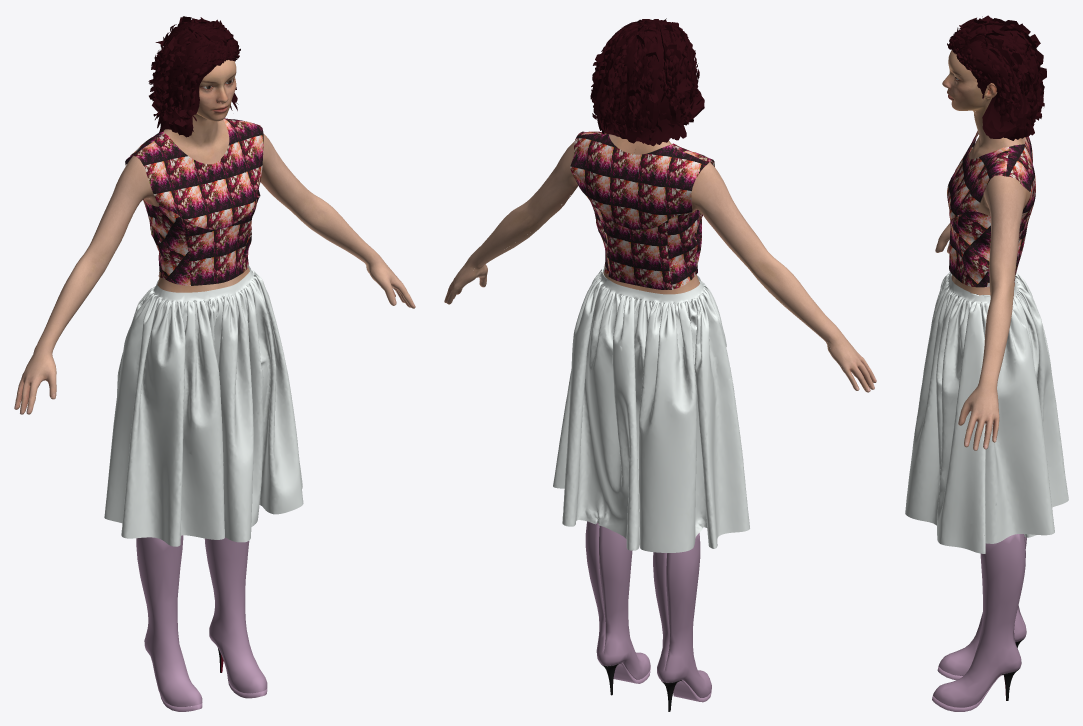
3 views of the same model, side by side, from view 1: azimuth 30°, elevation 25°; view 2: azimuth 150°, elevation 25°; view 3: azimuth 270°, elevation 25° (orthographic).
Visible parts, largest first — view 1: Cloth, Avatar; view 2: Cloth, Avatar; view 3: Cloth, Avatar.
Boxes of the visible parts, <box> form: Cloth: <box>104,118,303,546</box>; Avatar: <box>14,16,415,711</box>; Cloth: <box>553,131,749,552</box>; Avatar: <box>444,18,876,711</box>; Cloth: <box>905,130,1068,553</box>; Avatar: <box>932,15,1046,711</box>.
Bounding box in the file's own units: 1.08 × 1.7 × 0.3766.
Materials: 14 (12 with a texture image).
